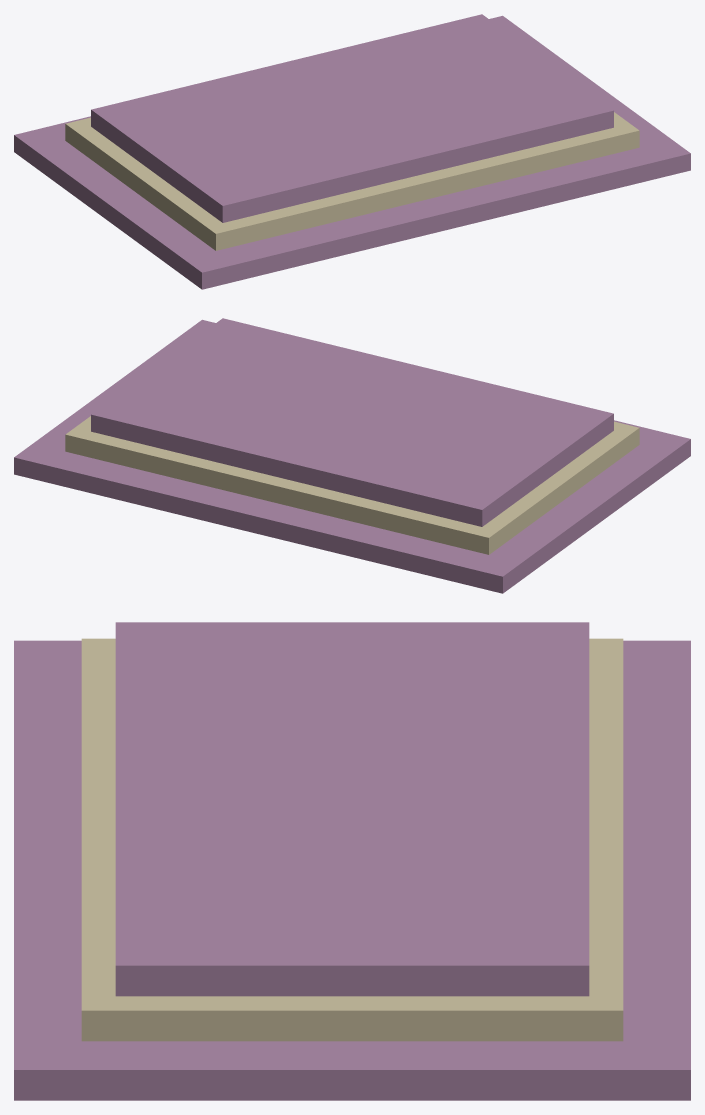
File: events-14.glb
3 renders of one model, top to bottom at view 1: azimuth 30°, elevation 25°; view 2: azimuth 150°, elevation 25°; view 3: azimuth 270°, elevation 25°, orthographic. The views are drawn at different scales.
Parts seen in each view (by area): view 1: Dance floor; view 2: Dance floor; view 3: Dance floor.
Boxes of the visible parts, x1,y1,x2,y2 form: Dance floor: (14, 14, 690, 289); Dance floor: (14, 318, 690, 593); Dance floor: (14, 622, 690, 1100).
Bounding box in the file's own units: 2.4 × 0.24 × 1.6.
